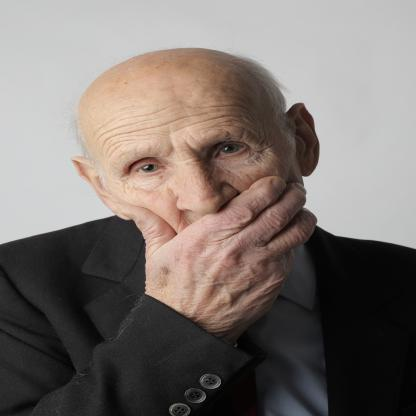Eye: (211, 141, 257, 161), (129, 158, 172, 179)
Nose: (177, 154, 238, 215)
